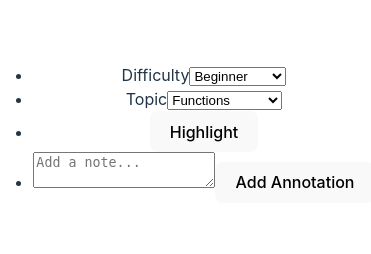
it: PersonalizationDropdown › shows an error message when saving highlight fails
The width and height of the screenshot is (371, 254).
Click the button "Highlight". click: (204, 132)
box: [150,111,258,152]
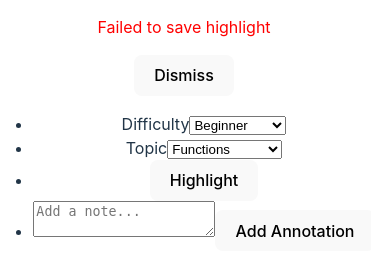
Result: the text "Failed to save highlight" is shown at [97,16,271,36]
